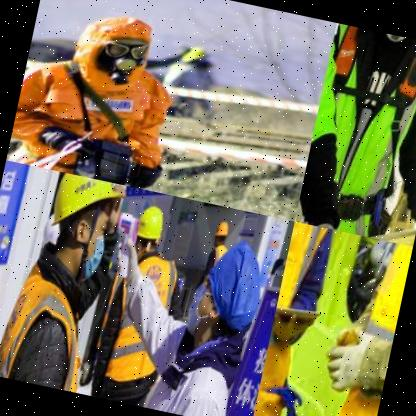capacete: (44, 171, 126, 240), (134, 206, 168, 247), (214, 224, 233, 246)
